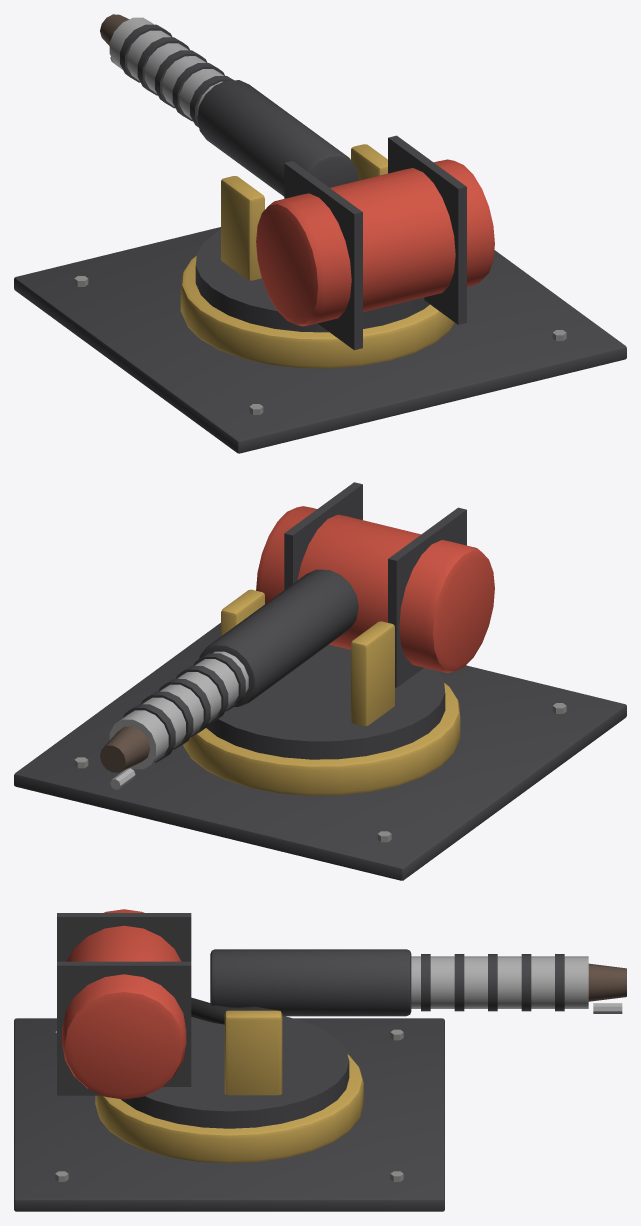
File: flamer.glb
3 views of the same model, one above another, from view 1: azimuth 30°, elevation 25°; view 2: azimuth 150°, elevation 25°; view 3: azimuth 270°, elevation 25° (orthographic). The views are drawn at different scales.
Parts seen in each view (by area): view 1: Part, Turret, Gun; view 2: Part, Turret, Gun; view 3: Part, Turret, Gun.
Part boxes in pixels (x1,y1,x2,y2): Part: [14, 227, 626, 453]; Turret: [195, 135, 494, 350]; Gun: [100, 14, 358, 196]; Part: [14, 623, 626, 880]; Turret: [206, 482, 494, 759]; Gun: [100, 569, 358, 789]; Part: [14, 1018, 444, 1211]; Turret: [57, 909, 349, 1128]; Gun: [191, 949, 626, 1024].
Bounding box in the file's own units: 0.9 × 0.42 × 1.28.
